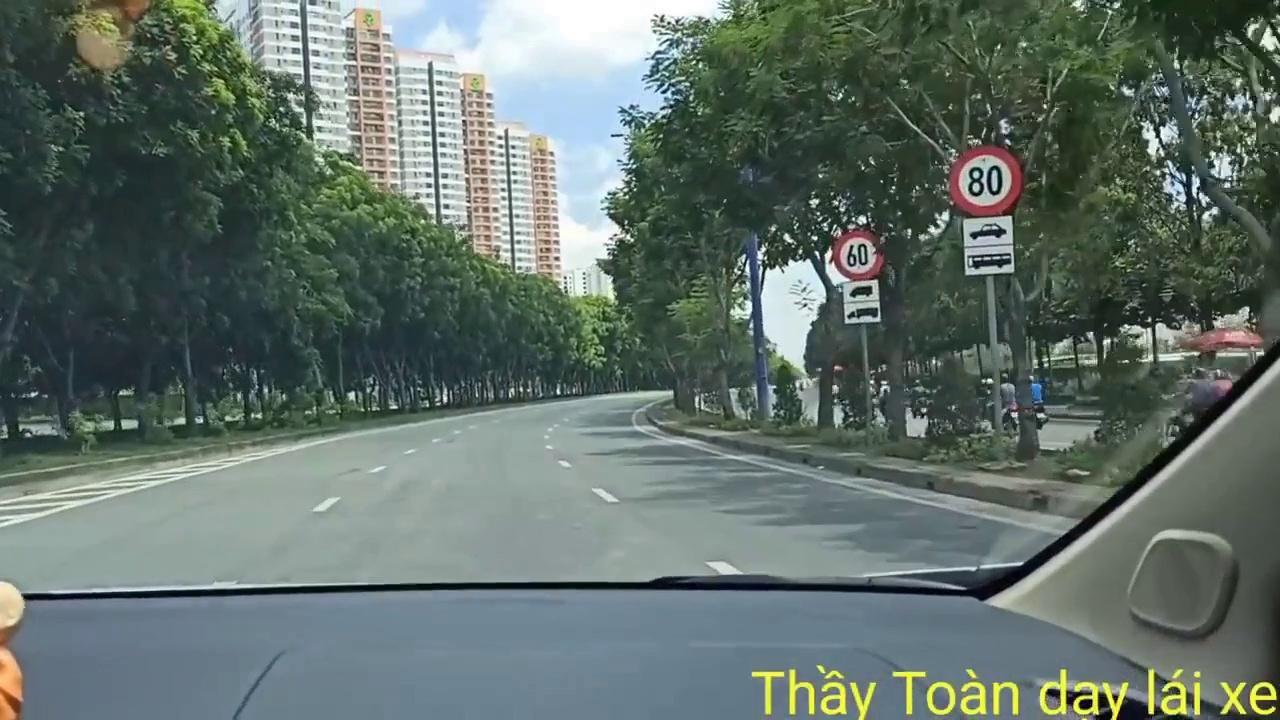Biển phụ: (962, 216, 1015, 274), (843, 280, 879, 326)
GIơi hạn tốc độ 60Km/h: (832, 228, 885, 281)
Giới hạn tốc độ 80Km/h: (949, 141, 1024, 217)
